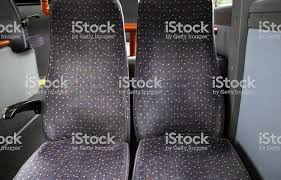seat: (36, 18, 134, 180)
